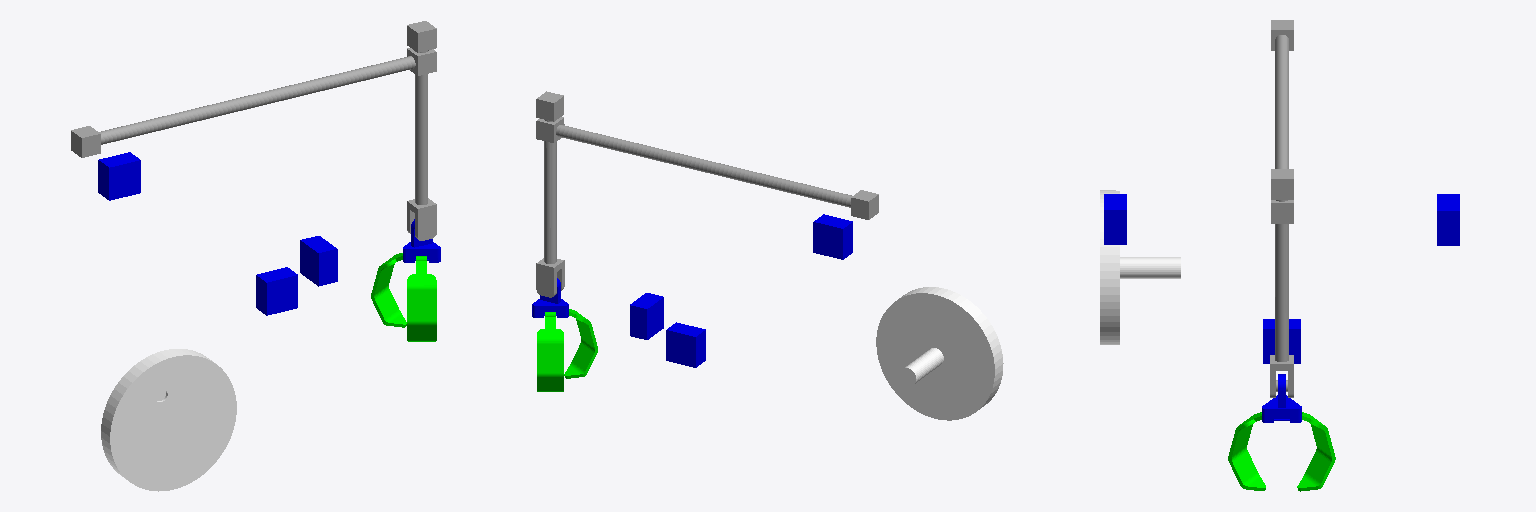
URDF robot description (bot):
<?xml version="1.0" encoding="utf-8"?>


<robot name="bot" xmlns:xacro="http://www.ros.org/wiki/xacro">
	
	<material name="gray">
		<color rgba="1 1 1 1"/>
	</material>
	<material name="orange">
		<color rgba="1 0.7 0 1"/>
	</material>
	<material name="black">
		<color rgba="0 0 0 1"/>
	</material>
	<material name="green">
		<color rgba="0 1 0 1"/>
	</material>
	<material name="blue">
		<color rgba="0 0 1 1"/>
	</material>
	<material name="cream">
		<color rgba="0.7 0.7 0.7 1"/>
	</material>


	<!--<link name="origin">
		<inertial>
			j  <origin xyz="0 0 0" rpy="0 0 0"/>
			<mass value="0.0001"/>
			<inertia ixx="0" ixy="0" ixz="0" iyy="0" iyz="0" izz="0"/>
		</inertial>
		<visual>
			<origin xyz="0 0 0" rpy="0 0 0"/>
			<geometry>
				<box size="0.00005 0.00005 0.00005"/>
			</geometry>
		</visual>
		<collision>
			<origin xyz="0 0 0" rpy="0 0 0"/>
			<geometry>
				<box size="0.00005 0.00005 0.00005"/>
			</geometry>
		</collision>
	</link>-->

	<link name="base_link">
		<inertial>
			<origin xyz="0 0 0.12" rpy="0 0 0"/>
			<mass value="10"/>
			<inertia ixx="0" ixy="0" ixz="0" iyy="0" iyz="0" izz="0"/>
		</inertial>
		<visual>
			<origin xyz="0 0 0.12" rpy="0 0 0"/>
			<geometry>
				<mesh filename="package://trial/meshes/base_link.STL" />
			</geometry>
			<material name = "orange"/>
		</visual>
		<collision>
			<origin xyz="0 0 0.12" rpy="0 0 0"/>
			<geometry>
				<mesh filename="package://trial/meshes/base_link.STL" />
			</geometry>
		</collision>
	</link>

	<!--<xacro:macro name="Wheel" params="X Y F">-->
	<link name="FRW">
		<inertial>
			<origin xyz="0 0 0" rpy="1.57 0 0"/>
			<mass value="3"/>
			<inertia ixx="0" ixy="0" ixz="0" iyy="0" iyz="0" izz="0"/>
		</inertial>
		<visual>
			<origin xyz="0 0 0" rpy="1.57 0 0"/>
			<geometry>
				<mesh filename="package://trial/meshes/FRW.STL" />
			</geometry>
			<material name = "gray"/>
		</visual>
		<collision>
			<origin xyz="0 0 0" rpy="1.57 0 0"/>
			<geometry>
				<mesh filename="package://trial/meshes/FRW.STL" />
			</geometry>
		</collision>
	</link>

	<joint name="FRWJ" type="continuous">
		<parent link = "base_link"/>
		<child link = "FRW"/>
		<origin xyz="0 0 0.12" rpy="0 0 0"/>
		<axis xyz="0 1 0"/>
	</joint>
	<!--</xacro:macro>

	<xacro:macro X="F" Y="R" F="package://trial/meshes/FRW.STL"/>
	<xacro:macro X="R" Y="R"/>
	<xacro:macro X="F" Y="L"/>
	<xacro:macro X="R" Y="L"/>-->

	<link name="RRW">

		<inertial>

			<origin xyz="0 0 0" rpy="1.57 0 0"/>

			<mass value="3"/>

			<inertia ixx="0" ixy="0" ixz="0" iyy="0" iyz="0" izz="0"/>

		</inertial>

		<visual>

			<origin xyz="0 0 0" rpy="1.57 0 0"/>

			<geometry>

				<mesh filename="package://trial/meshes/RRW.STL" />
			</geometry>
			<material name = "gray"/>
		</visual>
		<collision>
			<origin xyz="0 0 0" rpy="1.57 0 0"/>
			<geometry>
				<mesh filename="package://trial/meshes/RRW.STL" />
			</geometry>
		</collision>
	</link>

	<joint name="RRWJ" type="continuous">
		<parent link = "base_link"/>
		<child link = "RRW"/>
		<origin xyz="0 0 0.12" rpy="0 0 0"/>
		<axis xyz="0 1 0"/>
	</joint>

	<link name="FLW">

		<inertial>

			<origin xyz="0 0 0" rpy="1.57 0 0"/>

			<mass value="3"/>

			<inertia ixx="0" ixy="0" ixz="0" iyy="0" iyz="0" izz="0"/>

		</inertial>

		<visual>

			<origin xyz="0 0 0" rpy="1.57 0 0"/>

			<geometry>

				<mesh filename="package://trial/meshes/FLW.STL" />
			</geometry>
			<material name = "gray"/>
		</visual>
		<collision>
			<origin xyz="0 0 0" rpy="1.57 0 0"/>
			<geometry>
				<mesh filename="package://trial/meshes/FLW.STL" />
			</geometry>
		</collision>
	</link>

	<joint name="FLWJ" type="continuous">
		<parent link = "base_link"/>
		<child link = "FLW"/>
		<origin xyz="0 0 0.12" rpy="0 0 0"/>
		<axis xyz="0 1 0"/>
	</joint>

	<link name="RLW">

		<inertial>

			<origin xyz="0 0 0" rpy="1.57 0 0"/>

			<mass value="3"/>

			<inertia ixx="0" ixy="0" ixz="0" iyy="0" iyz="0" izz="0"/>

		</inertial>

		<visual>

			<origin xyz="0 0 0" rpy="1.57 0 0"/>

			<geometry>

				<mesh filename="package://trial/meshes/RLW.STL" />
			</geometry>
			<material name = "gray"/>
		</visual>
		<collision>
			<origin xyz="0 0 0" rpy="1.57 0 0"/>
			<geometry>
				<mesh filename="package://trial/meshes/RLW.STL" />
			</geometry>
		</collision>
	</link>

	<joint name="RLWJ" type="continuous">
		<parent link = "base_link"/>
		<child link = "RLW"/>
		<origin xyz="0 0 0.12" rpy="0 0 0"/>
		<axis xyz="0 1 0"/>
	</joint>



	<link name="FC">
		<inertial>
			<origin xyz="0 0 0" rpy="1.57 0 0"/>
			<mass value="0.25"/>
			<inertia ixx="0" ixy="0" ixz="0" iyy="0" iyz="0" izz="0"/>
		</inertial>
		<visual>
			<origin xyz="0 0 0" rpy="1.57 0 0"/>
			<geometry>
				<mesh filename="package://trial/meshes/FC.STL" />
			</geometry>
			<material name = "blue"/>
		</visual>
		<collision>
			<origin xyz="0 0 0" rpy="1.57 0 0"/>
			<geometry>
				<mesh filename="package://trial/meshes/FC.STL" />
			</geometry>
		</collision>
	</link>

	<joint name="FCJ" type="fixed">
		<parent link = "base_link"/>
		<child link = "FC"/>
		<origin xyz="0 0 0.12" rpy="0 0 0"/>
	</joint>

	<link name="LC">

		<inertial>

			<origin xyz="0 0 0" rpy="1.57 0 0"/>

			<mass value="0.25"/>

			<inertia ixx="0" ixy="0" ixz="0" iyy="0" iyz="0" izz="0"/>

		</inertial>

		<visual>

			<origin xyz="0 0 0" rpy="1.57 0 0"/>
			<geometry>
				<mesh filename="package://trial/meshes/LC.STL" />
			</geometry>
			<material name = "blue"/>
		</visual>
		<collision>
			<origin xyz="0 0 0" rpy="1.57 0 0"/>
			<geometry>
				<mesh filename="package://trial/meshes/LC.STL" />
			</geometry>
		</collision>
	</link>

	<joint name="LCJ" type="fixed">
		<parent link = "base_link"/>
		<child link = "LC"/>
		<origin xyz="0 0 0.12" rpy="0 0 0"/>
	</joint>

	<link name="RC">

		<inertial>

			<origin xyz="0 0 0" rpy="1.57 0 0"/>

			<mass value="0.25"/>

			<inertia ixx="0" ixy="0" ixz="0" iyy="0" iyz="0" izz="0"/>

		</inertial>

		<visual>

			<origin xyz="0 0 0" rpy="1.57 0 0"/>
			<geometry>
				<mesh filename="package://trial/meshes/RC.STL" />
			</geometry>
			<material name = "blue"/>
		</visual>
		<collision>
			<origin xyz="0 0 0" rpy="1.57 0 0"/>
			<geometry>
				<mesh filename="package://trial/meshes/RC.STL" />
			</geometry>
		</collision>
	</link>

	<joint name="RCJ" type="fixed">
		<parent link = "base_link"/>
		<child link = "RC"/>
		<origin xyz="0 0 0.12" rpy="0 0 0"/>
	</joint>


	<link name="EP1">
		<inertial>
			<origin xyz="0 0 0" rpy="1.57 0 0"/>
			<mass value="0.5"/>
			<inertia ixx="0" ixy="0" ixz="0" iyy="0" iyz="0" izz="0"/>
		</inertial>
		<visual>
			<origin xyz="0 0 0" rpy="1.57 0 0"/>
			<geometry>
				<mesh filename="package://trial/meshes/EP1.STL" />
			</geometry>
			<material name = "cream"/>
		</visual>
		<collision>
			<origin xyz="0 0 0" rpy="1.57 0 0"/>
			<geometry>
				<mesh filename="package://trial/meshes/EP1.STL" />
			</geometry>
		</collision>
	</link>

	<joint name="EP1J" type="prismatic">
		<parent link = "base_link"/>
		<child link = "EP1"/>
		<origin xyz="0 0 0.12" rpy="0 0 0"/>
		<axis xyz="1 0 0"/>
		<limit upper="0" lower="-0.35" effort="10" velocity="0.1"/>
	</joint>

	<link name="EP2">
		<inertial>
			<origin xyz="0 0 0" rpy="1.57 0 0"/>
			<mass value="0.5"/>
			<inertia ixx="0" ixy="0" ixz="0" iyy="0" iyz="0" izz="0"/>
		</inertial>
		<visual>
			<origin xyz="0 0 0" rpy="1.57 0 0"/>
			<geometry>
				<mesh filename="package://trial/meshes/EP2.STL" />
			</geometry>
			<material name = "cream"/>
		</visual>
		<collision>
			<origin xyz="0 0 0" rpy="1.57 0 0"/>
			<geometry>
				<mesh filename="package://trial/meshes/EP2.STL" />
			</geometry>
		</collision>
	</link>

	<joint name="EP2J" type="prismatic">
		<parent link = "EP1"/>
		<child link = "EP2"/>
		<origin xyz="0 0 0" rpy="0 0 0"/>
		<axis xyz="0 0 1"/>
		<limit upper="0" lower="-0.23" effort="10" velocity="0.1"/>
	</joint>

	<link name="CH">
		<inertial>
			<origin xyz="0 0 0" rpy="1.57 0 0"/>
			<mass value="0.5"/>
			<inertia ixx="0" ixy="0" ixz="0" iyy="0" iyz="0" izz="0"/>
		</inertial>
		<visual>
			<origin xyz="0 0 0" rpy="1.57 0 0"/>
			<geometry>
				<mesh filename="package://trial/meshes/CH.STL" />
			</geometry>
			<material name = "blue"/>
		</visual>
		<collision>
			<origin xyz="0 0 0" rpy="1.57 0 0"/>
			<geometry>
				<mesh filename="package://trial/meshes/CH.STL" />
			</geometry>
		</collision>
	</link>

	<joint name="CHJ" type="revolute">
		<parent link = "EP2"/>
		<child link = "CH"/>
		<origin xyz="0 0 0" rpy="0 0 0"/>
		<axis xyz="0 1 0"/>
		<limit upper="0" lower="-0.35" effort="10" velocity="0.125"/>
	</joint>

	<link name="F1">
		<inertial>
			<origin xyz="0 0 0" rpy="1.57 0 0"/>
			<mass value="0.5"/>
			<inertia ixx="0" ixy="0" ixz="0" iyy="0" iyz="0" izz="0"/>
		</inertial>
		<visual>
			<origin xyz="0 0 0" rpy="1.57 0 0"/>
			<geometry>
				<mesh filename="package://trial/meshes/F1.STL" />
			</geometry>
			<material name = "green"/>
		</visual>
		<collision>
			<origin xyz="0 0 0" rpy="1.57 0 0"/>
			<geometry>
				<mesh filename="package://trial/meshes/F1.STL" />
			</geometry>
		</collision>
	</link>

	<joint name="F1J" type="revolute">
		<parent link = "CH"/>
		<child link = "F1"/>
		<origin xyz="0 0 0" rpy="0 0 0"/>
		<axis xyz="1 1 0"/>
		<limit upper="0" lower="-0.35" effort="10" velocity="0.125"/>
	</joint>

	<link name="F2">
		<inertial>
			<origin xyz="0 0 0" rpy="1.57 0 0"/>
			<mass value="0.5"/>
			<inertia ixx="0" ixy="0" ixz="0" iyy="0" iyz="0" izz="0"/>
		</inertial>
		<visual>
			<origin xyz="0 0 0" rpy="1.57 0 0"/>
			<geometry>
				<mesh filename="package://trial/meshes/F2.STL" />
			</geometry>
			<material name = "green"/>
		</visual>
		<collision>
			<origin xyz="0 0 0" rpy="1.57 0 0"/>
			<geometry>
				<mesh filename="package://trial/meshes/F2.STL" />
			</geometry>
		</collision>
	</link>

	<joint name="F2J" type="revolute">
		<parent link = "CH"/>
		<child link = "F2"/>
		<origin xyz="0 0 0" rpy="0 0 0"/>
		<axis xyz="1 -1 0"/>
		<limit upper="0" lower="-0.35" effort="10" velocity="0.125"/>
	</joint>

	<link name="F3">
		<inertial>
			<origin xyz="0 0 0" rpy="1.57 0 0"/>
			<mass value="0.5"/>
			<inertia ixx="0" ixy="0" ixz="0" iyy="0" iyz="0" izz="0"/>
		</inertial>
		<visual>
			<origin xyz="0 0 0" rpy="1.57 0 0"/>
			<geometry>
				<mesh filename="package://trial/meshes/F3.STL" />
			</geometry>
			<material name = "green"/>
		</visual>
		<collision>
			<origin xyz="0 0 0" rpy="1.57 0 0"/>
			<geometry>
				<mesh filename="package://trial/meshes/F3.STL" />
			</geometry>
		</collision>
	</link>

	<joint name="F3J" type="revolute">
		<parent link = "CH"/>
		<child link = "F3"/>
		<origin xyz="0 0 0" rpy="0 0 0"/>
		<axis xyz="0 0 1"/>
		<limit upper="0" lower="-0.35" effort="10" velocity="0.125"/>
	</joint>
</robot>

--- What the picture shows (computed from the rendered views, not written in the file) ---
The picture shows the robot from 3 angles, left to right: view 1: azimuth 30°, elevation 25°; view 2: azimuth 150°, elevation 25°; view 3: azimuth 270°, elevation 25°; orthographic projection.
Robot: bot — 14 links, 13 joints (4 revolute, 4 continuous, 2 prismatic, 3 fixed); root link base_link; default pose: all joints at 0.
Links seen in each view (by area): view 1: RRW, EP1, EP2, F3, LC, RC, FC, F1, CH; view 2: RRW, EP1, EP2, F1, LC, RC, FC, F3, CH; view 3: RRW, EP2, EP1, F1, F3, LC, RC, CH, FC.
Boxes of the visible links, left/top/right/bottom form: RRW: left=101, top=349, right=236, bottom=491; EP1: left=71, top=48, right=436, bottom=157; EP2: left=407, top=21, right=436, bottom=240; F3: left=407, top=256, right=436, bottom=341; LC: left=98, top=152, right=140, bottom=200; RC: left=256, top=267, right=297, bottom=315; FC: left=300, top=236, right=337, bottom=286; F1: left=371, top=253, right=406, bottom=327; CH: left=403, top=219, right=440, bottom=262; RRW: left=876, top=287, right=1003, bottom=420; EP1: left=536, top=117, right=878, bottom=219; EP2: left=536, top=91, right=564, bottom=297; F1: left=537, top=312, right=563, bottom=391; LC: left=666, top=322, right=705, bottom=367; RC: left=813, top=214, right=852, bottom=259; FC: left=630, top=293, right=663, bottom=339; F3: left=564, top=309, right=597, bottom=378; CH: left=532, top=278, right=568, bottom=317; RRW: left=1100, top=190, right=1180, bottom=344; EP2: left=1270, top=169, right=1293, bottom=397; EP1: left=1271, top=20, right=1293, bottom=223; F1: left=1297, top=412, right=1335, bottom=491; F3: left=1228, top=412, right=1265, bottom=490; LC: left=1437, top=194, right=1459, bottom=245; RC: left=1104, top=194, right=1126, bottom=244; CH: left=1262, top=374, right=1301, bottom=422; FC: left=1263, top=319, right=1300, bottom=363.
Bounding box of the posed robot: 0.6448 × 0.4652 × 0.4798 m (x, y, z).
Meshes: 14 distinct files referenced, 9 mesh visuals loaded (9 binary STL); not drawn: 5 (reference not matched to a file when rendering).